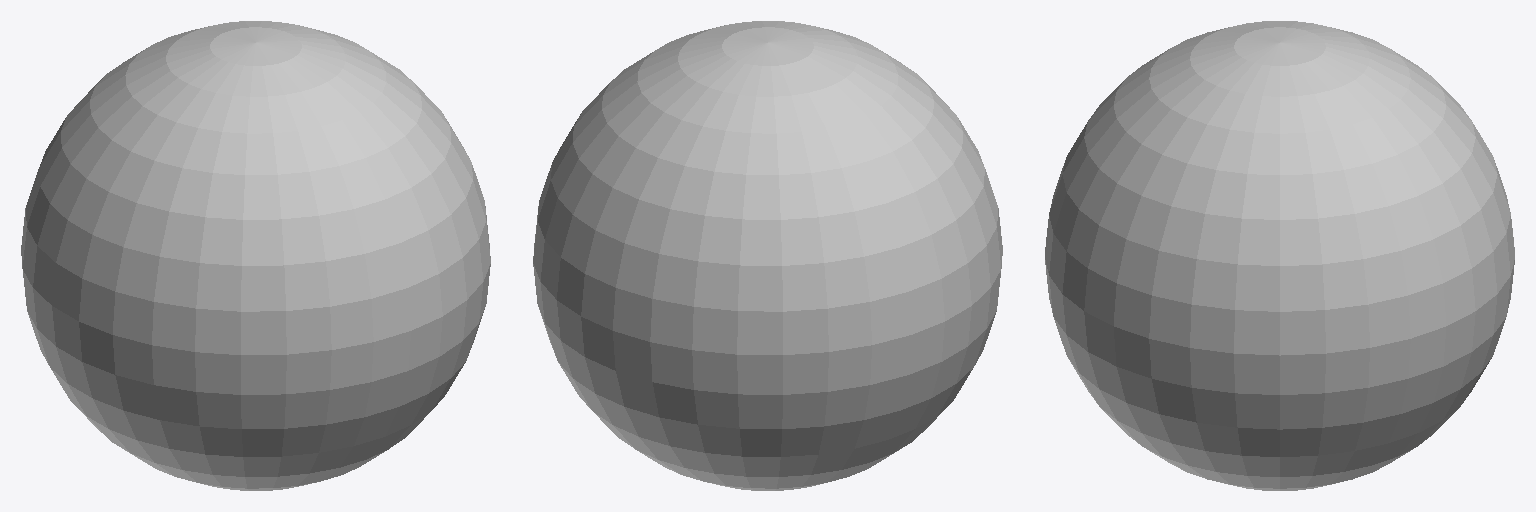
The model's file is Ball.obj.
The picture shows the model from 3 angles: view 1: azimuth 30°, elevation 25°; view 2: azimuth 150°, elevation 25°; view 3: azimuth 270°, elevation 25°; orthographic projection.
Parts seen in each view (by area): view 1: Ball; view 2: Ball; view 3: Ball.
Part boxes in pixels (x1,y1,x2,y2): Ball: (21,21,490,490); Ball: (533,21,1002,490); Ball: (1045,21,1514,490).
Size of the model in its own units: 1 by 1 by 1.